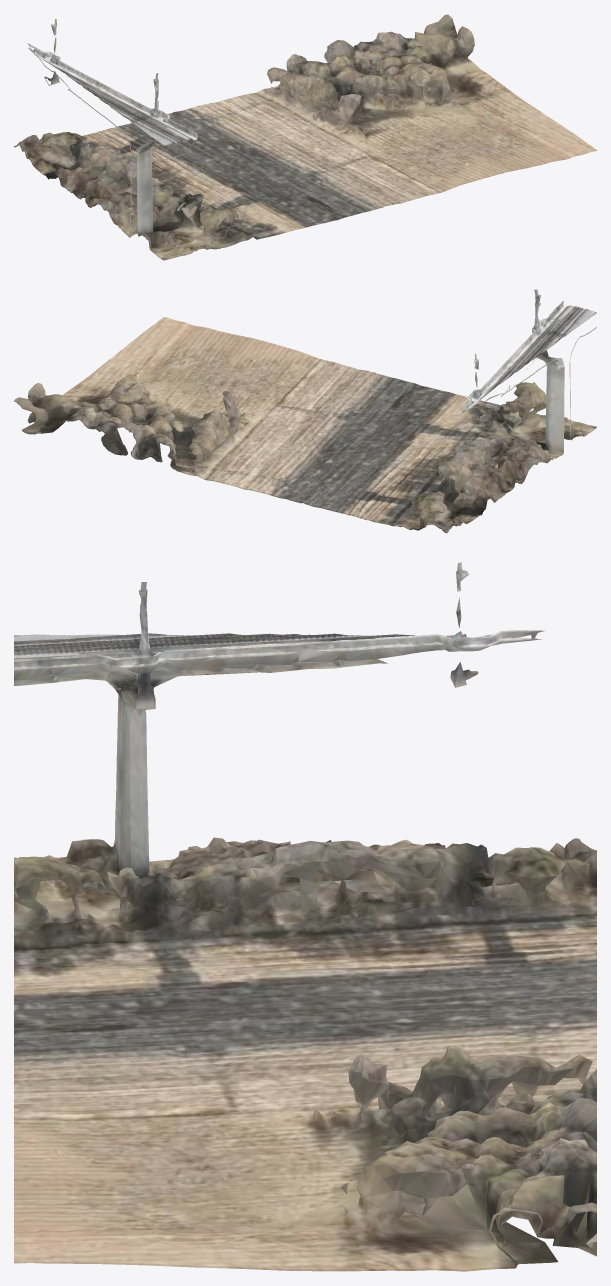
File: Block_L17_25.glb
3 views of the same model, one above another, from view 1: azimuth 30°, elevation 25°; view 2: azimuth 150°, elevation 25°; view 3: azimuth 270°, elevation 25° (orthographic). The views are drawn at different scales.
Parts seen in each view (by area): view 1: rtc; view 2: rtc; view 3: rtc.
Boxes of the visible parts, left/top/right/bottom form: rtc: left=14, top=14, right=596, bottom=260; rtc: left=14, top=289, right=596, bottom=533; rtc: left=14, top=562, right=596, bottom=1271.
Size of the model in its own units: 96.23 by 33.78 by 57.63.
Materials: 1 (1 with a texture image).
